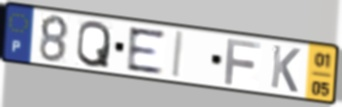8: (37, 13, 71, 64)
E: (126, 25, 167, 76)
F: (222, 36, 263, 87)
I: (170, 29, 186, 81)
K: (268, 43, 302, 95)
Q: (74, 19, 113, 70)
